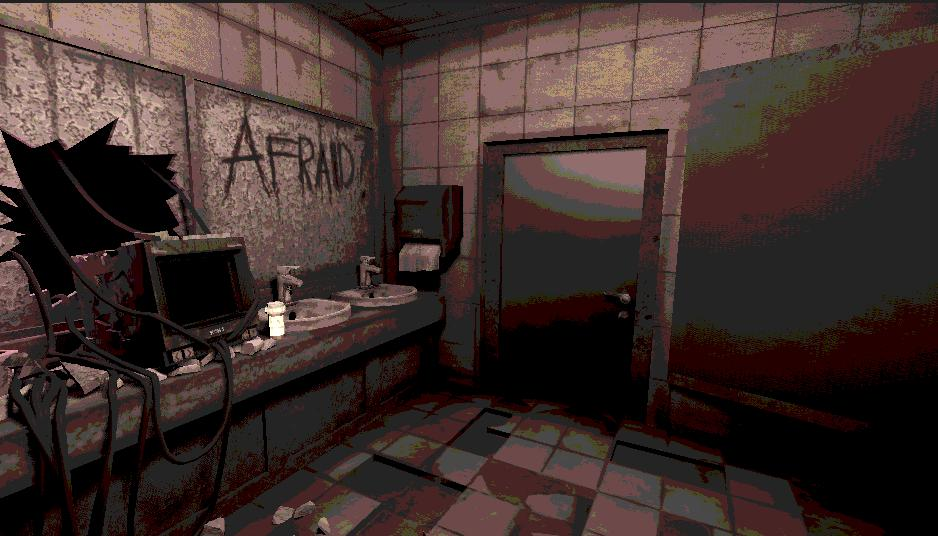door: (490, 147, 646, 431)
